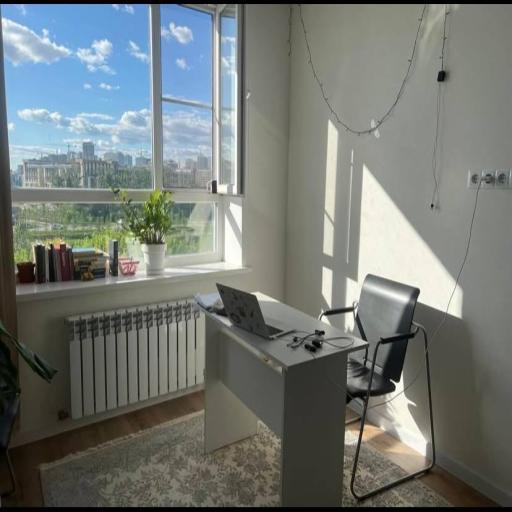bed: (109, 240, 119, 276)
bottle: (320, 274, 435, 500)
corridor: (216, 284, 294, 340)
phone: (205, 294, 367, 506)
